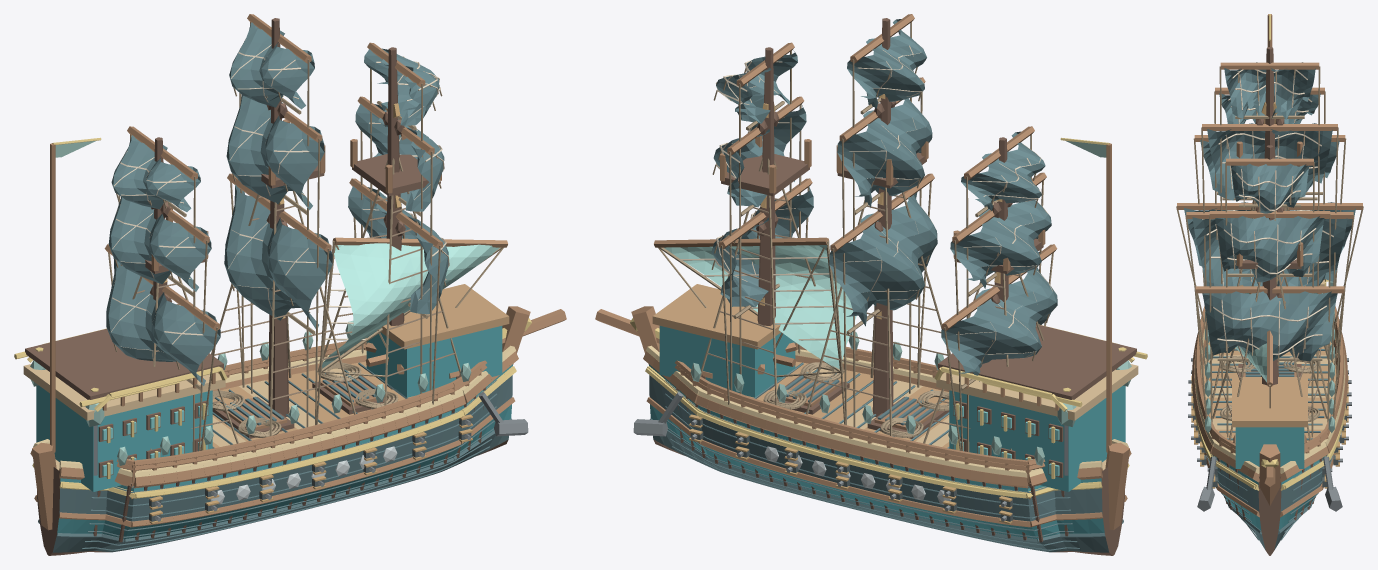
The model's file is flying_dutchman-v5-mobile.glb.
The picture shows the model from 3 angles, left to right: view 1: azimuth 30°, elevation 25°; view 2: azimuth 150°, elevation 25°; view 3: azimuth 270°, elevation 25°; orthographic projection. The views are drawn at different scales.
Parts seen in each view (by area): view 1: flying_dutchman_sails_ghostdark, flying_dutchman_hull_ghostdark, flying_dutchman_deck_teal, flying_dutchman_hull_hull2, flying_dutchman_rigging_rope, flying_dutchman_sails_mint, flying_dutchman_masts_darkwood, flying_dutchman_deck_darkwood, flying_dutchman_rigging_hull2, flying_dutchman_hull_teal, flying_dutchman_railings_hull2, flying_dutchman_deck_wood (+22 smaller); view 2: flying_dutchman_sails_ghostdark, flying_dutchman_hull_ghostdark, flying_dutchman_deck_teal, flying_dutchman_hull_hull2, flying_dutchman_masts_darkwood, flying_dutchman_rigging_rope, flying_dutchman_sails_mint, flying_dutchman_deck_darkwood, flying_dutchman_rigging_hull2, flying_dutchman_hull_teal, flying_dutchman_railings_hull2, flying_dutchman_deck_wood (+22 smaller); view 3: flying_dutchman_sails_ghostdark, flying_dutchman_rigging_rope, flying_dutchman_rigging_hull2, flying_dutchman_deck_wood, flying_dutchman_hull_hull2, flying_dutchman_hull_ghostdark, flying_dutchman_rigging_sailshade, flying_dutchman_deck_teal, flying_dutchman_railings_hull2, flying_dutchman_masts_darkwood, flying_dutchman_hull_wood, flying_dutchman_hull_darkwood (+15 smaller).
Part boxes in pixels (x1=…): flying_dutchman_sails_ghostdark: x1=106, y1=22, x2=448, y2=385; flying_dutchman_hull_ghostdark: x1=38, y1=362, x2=512, y2=552; flying_dutchman_deck_teal: x1=36, y1=326, x2=502, y2=491; flying_dutchman_hull_hull2: x1=30, y1=306, x2=566, y2=530; flying_dutchman_rigging_rope: x1=108, y1=22, x2=503, y2=451; flying_dutchman_sails_mint: x1=321, y1=243, x2=499, y2=368; flying_dutchman_masts_darkwood: x1=145, y1=18, x2=440, y2=416; flying_dutchman_deck_darkwood: x1=25, y1=328, x2=223, y2=477; flying_dutchman_rigging_hull2: x1=104, y1=14, x2=507, y2=330; flying_dutchman_hull_teal: x1=57, y1=364, x2=512, y2=539; flying_dutchman_railings_hull2: x1=116, y1=338, x2=487, y2=482; flying_dutchman_deck_wood: x1=381, y1=284, x2=509, y2=349; flying_dutchman_sails_ghostdark: x1=711, y1=19, x2=1057, y2=381; flying_dutchman_hull_ghostdark: x1=649, y1=362, x2=1123, y2=552; flying_dutchman_deck_teal: x1=659, y1=326, x2=1125, y2=491; flying_dutchman_hull_hull2: x1=595, y1=306, x2=1131, y2=530; flying_dutchman_masts_darkwood: x1=721, y1=18, x2=1043, y2=416; flying_dutchman_rigging_rope: x1=658, y1=22, x2=1053, y2=451; flying_dutchman_sails_mint: x1=664, y1=245, x2=856, y2=369; flying_dutchman_deck_darkwood: x1=938, y1=324, x2=1136, y2=477; flying_dutchman_rigging_hull2: x1=654, y1=14, x2=1057, y2=330; flying_dutchman_hull_teal: x1=649, y1=364, x2=1104, y2=539; flying_dutchman_railings_hull2: x1=674, y1=342, x2=1045, y2=482; flying_dutchman_deck_wood: x1=652, y1=284, x2=780, y2=349; flying_dutchman_sails_ghostdark: x1=1184, y1=62, x2=1355, y2=365; flying_dutchman_rigging_rope: x1=1176, y1=66, x2=1363, y2=437; flying_dutchman_rigging_hull2: x1=1177, y1=62, x2=1362, y2=386; flying_dutchman_deck_wood: x1=1232, y1=377, x2=1307, y2=427; flying_dutchman_hull_hull2: x1=1192, y1=333, x2=1347, y2=517; flying_dutchman_hull_ghostdark: x1=1206, y1=349, x2=1333, y2=549; flying_dutchman_rigging_sailshade: x1=1202, y1=69, x2=1333, y2=355; flying_dutchman_deck_teal: x1=1235, y1=293, x2=1317, y2=468; flying_dutchman_railings_hull2: x1=1195, y1=293, x2=1344, y2=453; flying_dutchman_masts_darkwood: x1=1238, y1=47, x2=1301, y2=385; flying_dutchman_hull_wood: x1=1203, y1=341, x2=1336, y2=441; flying_dutchman_hull_darkwood: x1=1213, y1=455, x2=1326, y2=555.
Size of the model in its own units: 51 by 45.02 by 18.3.
